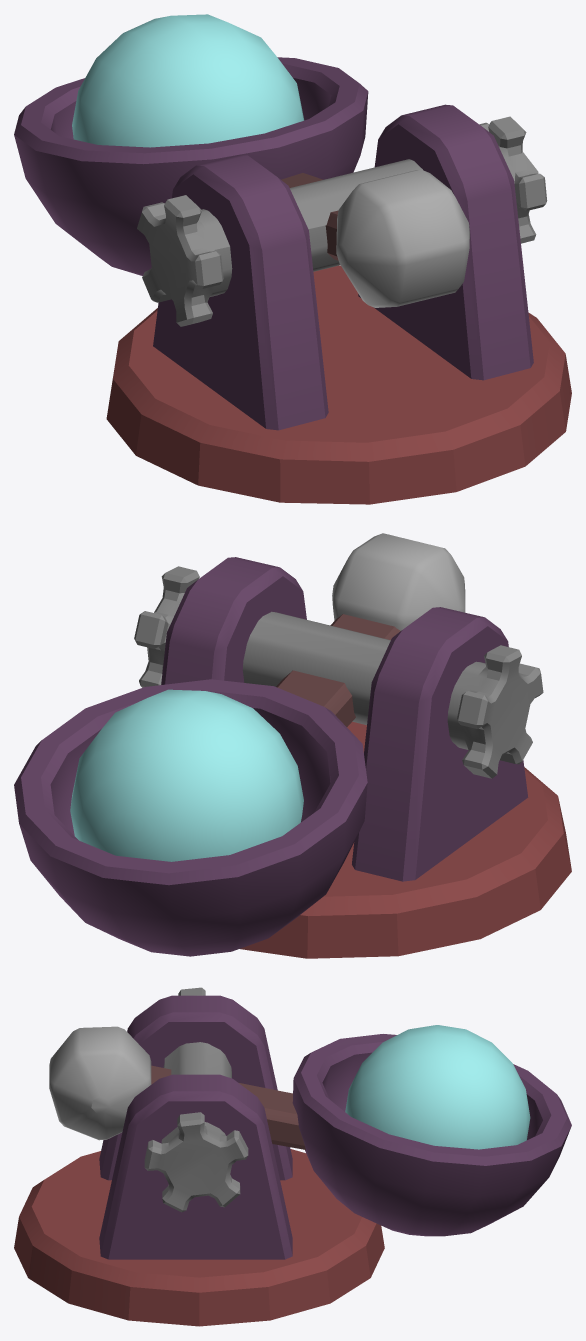
File: snow.fbx
3 views of the same model, one above another, from view 1: azimuth 30°, elevation 25°; view 2: azimuth 150°, elevation 25°; view 3: azimuth 270°, elevation 25° (orthographic). The views are drawn at different scales.
Visible parts, largest first — view 1: body, base, turret, ball; view 2: body, turret, ball, base; view 3: body, base, turret, ball.
Boxes of the visible parts, box(x1,y1,x2,y2) form: body: box(14, 57, 547, 326); base: box(106, 265, 571, 504); turret: box(153, 104, 533, 430); ball: box(72, 14, 304, 147); body: box(14, 533, 543, 956); turret: box(161, 557, 528, 881); ball: box(70, 689, 303, 861); base: box(240, 721, 571, 958); body: box(49, 987, 571, 1236); base: box(14, 1149, 384, 1326); turret: box(99, 995, 292, 1259); ball: box(345, 1025, 530, 1149).
Bounding box in the file's own units: 84.38 × 53.94 × 127.
